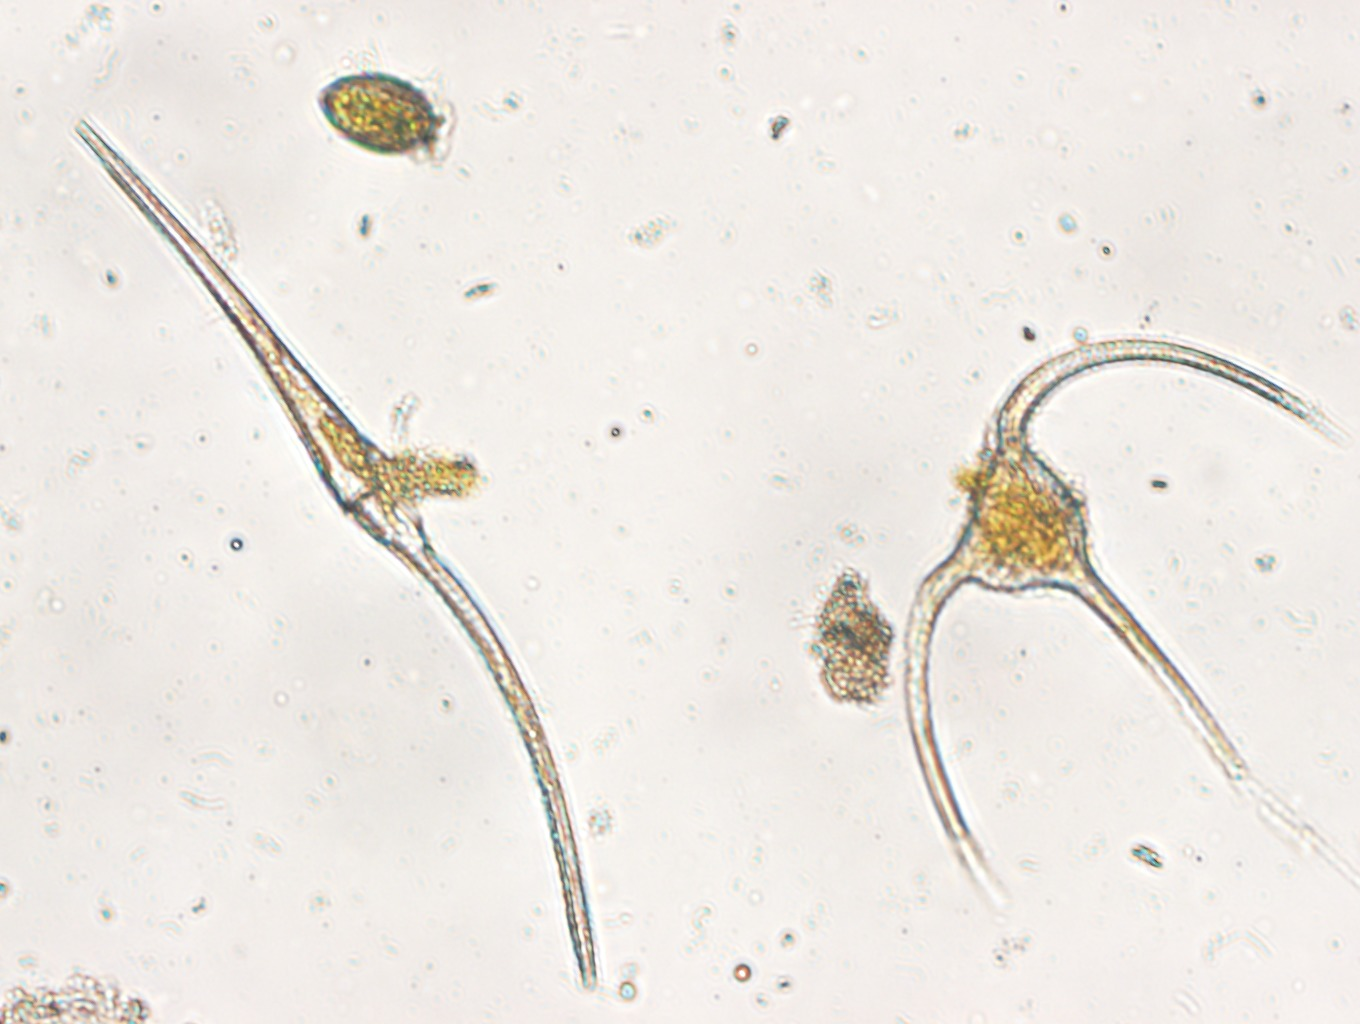ceratium fusus: (73, 117, 609, 996)
ceratium trichoceros: (894, 296, 1341, 914)
